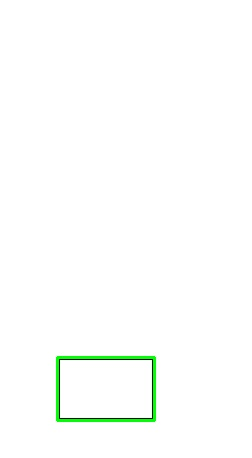line_segment: (56, 356, 156, 422)
